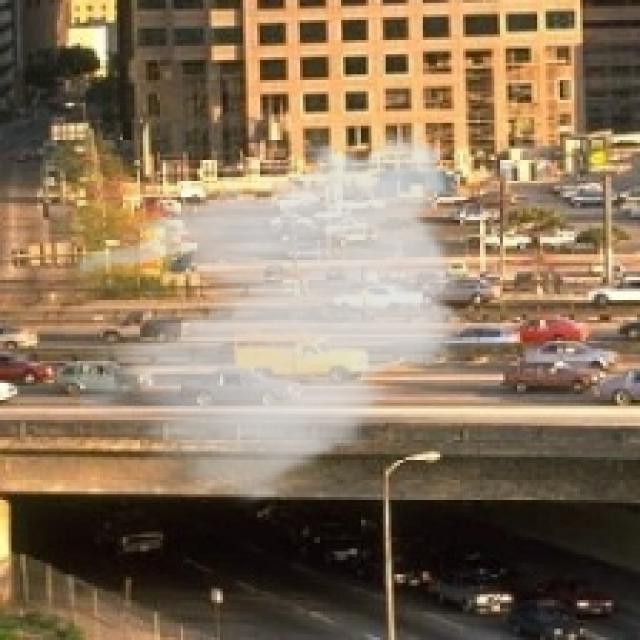Smoke: (77, 114, 480, 514)
